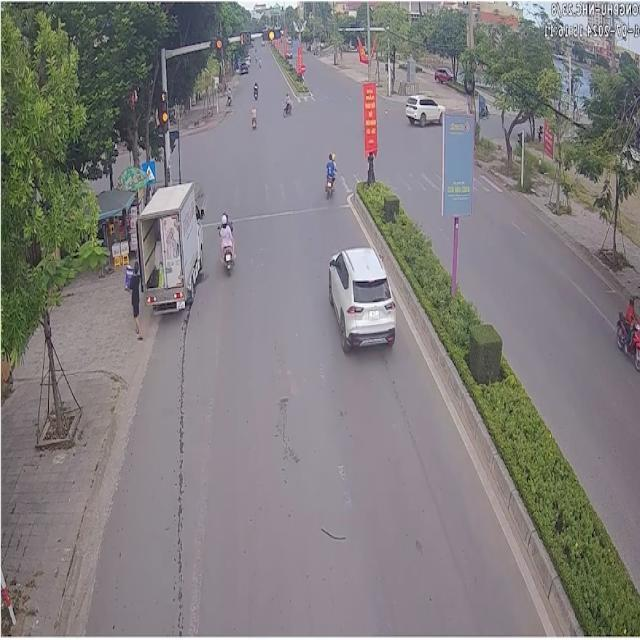car: (136, 180, 202, 311), (327, 244, 393, 348), (404, 92, 443, 122)
motobike: (614, 310, 638, 368), (217, 211, 233, 272), (324, 152, 336, 194), (248, 103, 256, 126), (282, 92, 290, 113)
stop_line: (233, 200, 347, 221)
yellow_light: (259, 27, 282, 42), (161, 89, 169, 128), (211, 34, 229, 50), (239, 28, 252, 46)
